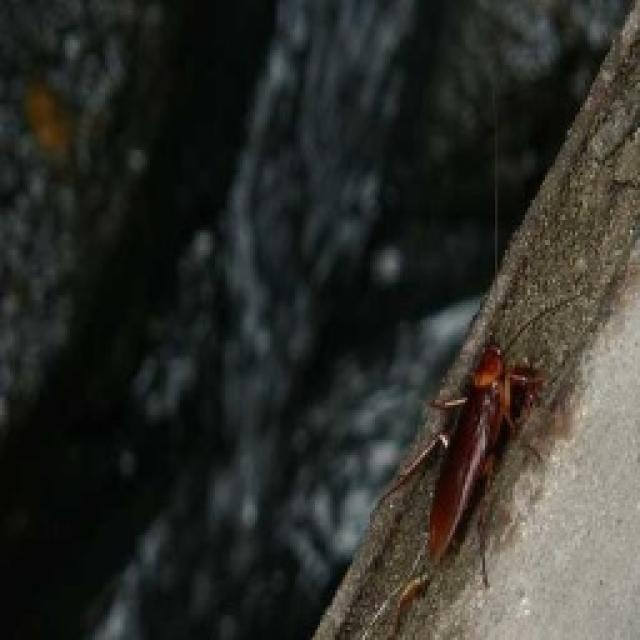cockroach: (392, 277, 568, 593)
